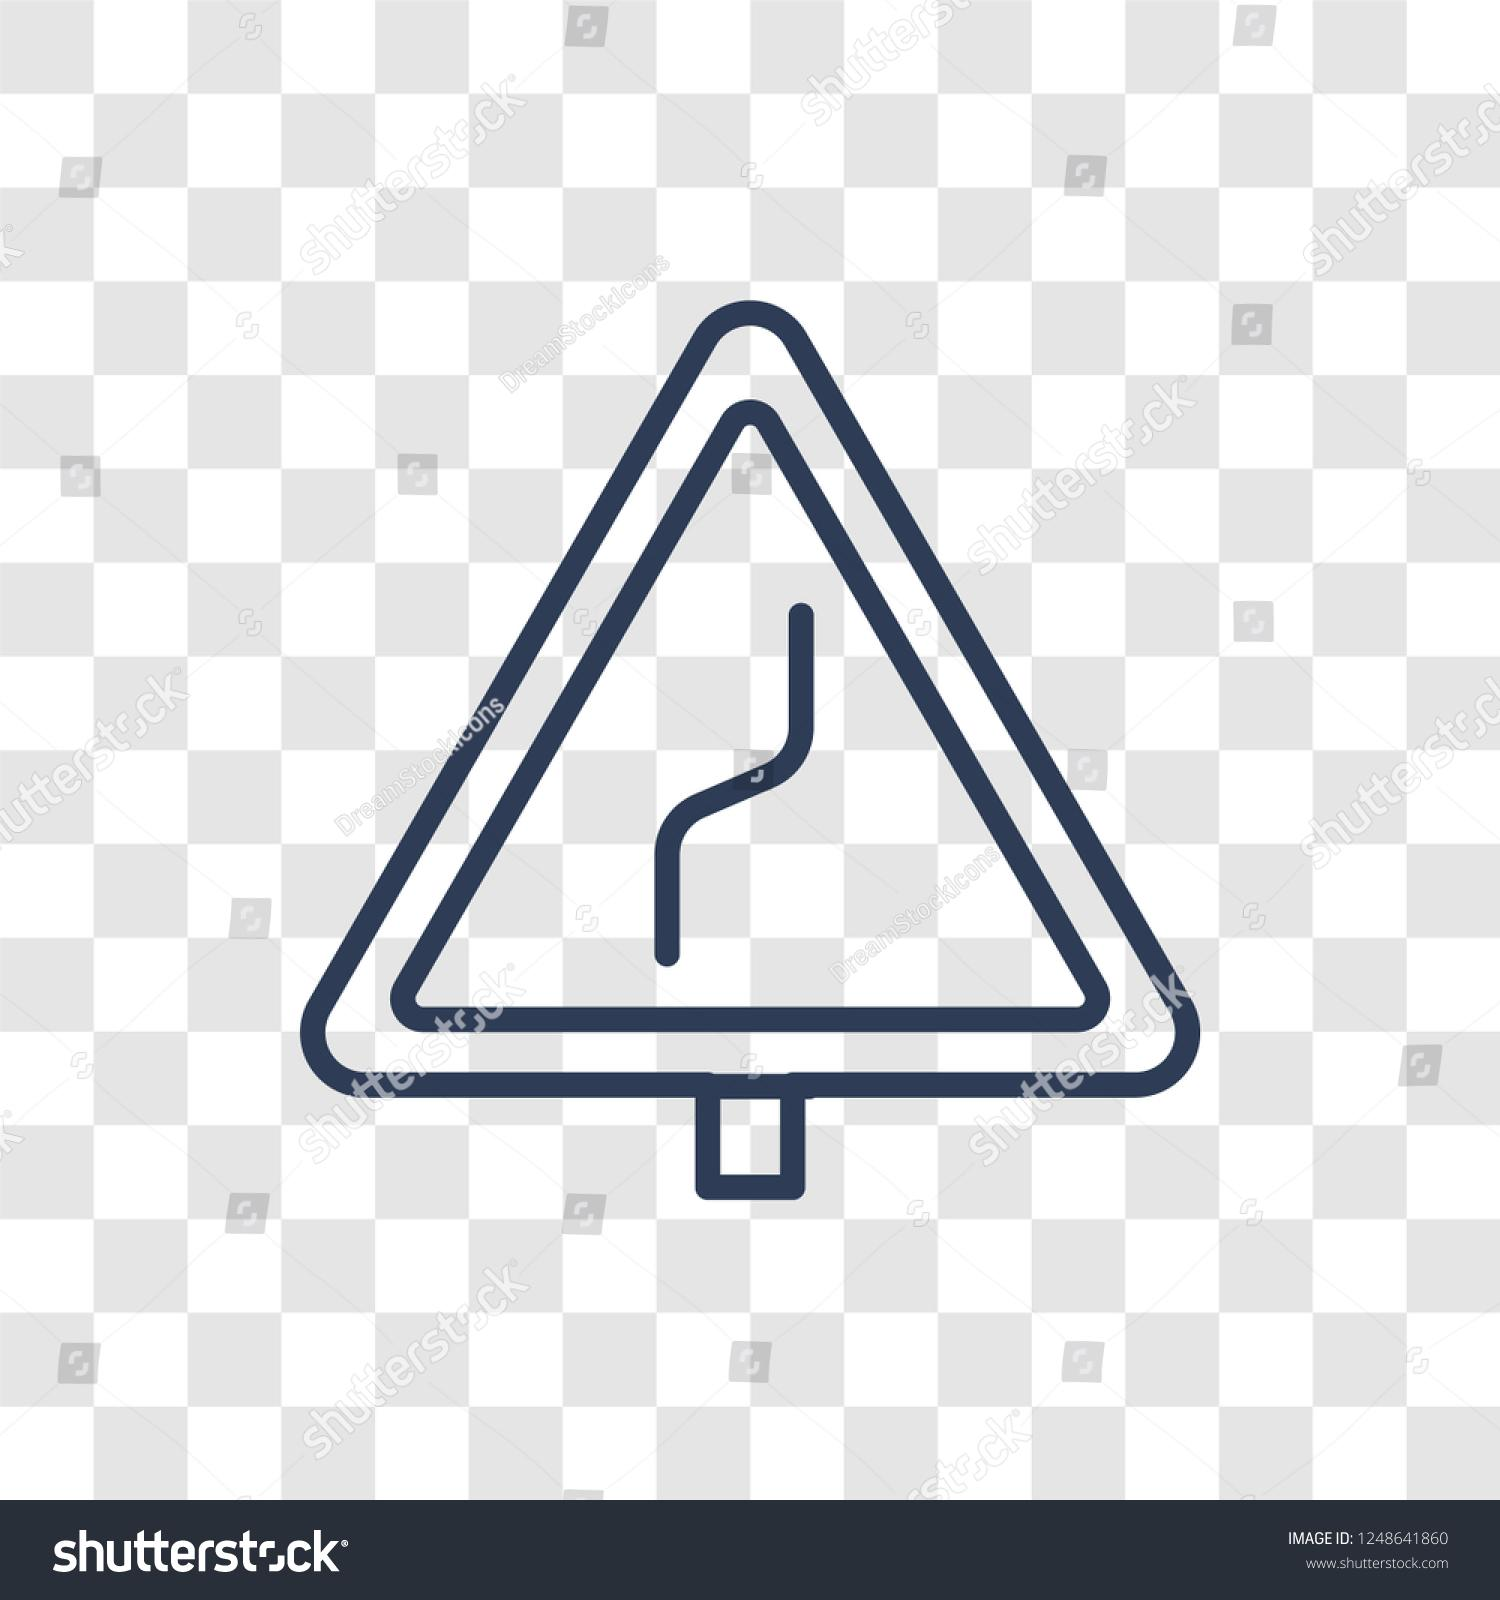Right Reverse Bend: (237, 251, 1236, 1276)
